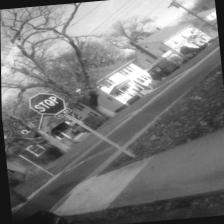Stop: (28, 91, 68, 115)
